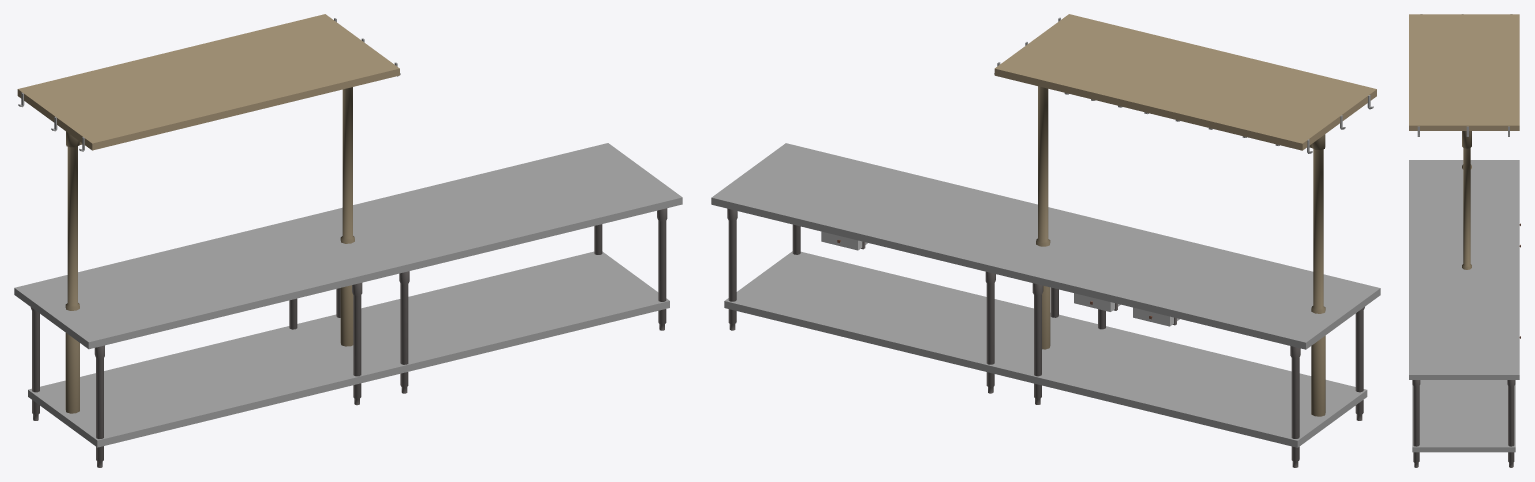
File: SM_Table_Kitchen_01.fbx
3 renders of one model, left to right at view 1: azimuth 30°, elevation 25°; view 2: azimuth 150°, elevation 25°; view 3: azimuth 270°, elevation 25°, orthographic. The views are drawn at different scales.
Visible parts, largest first — view 1: SM_Table_Kitchen_01; view 2: SM_Table_Kitchen_01; view 3: SM_Table_Kitchen_01.
Boxes of the visible parts, x1=… form: SM_Table_Kitchen_01: x1=14, y1=14, x2=682, y2=467; SM_Table_Kitchen_01: x1=711, y1=14, x2=1380, y2=467; SM_Table_Kitchen_01: x1=1409, y1=14, x2=1520, y2=467.
Size of the model in its own units: 460 by 244 by 101.
1 material, 1 textured.
